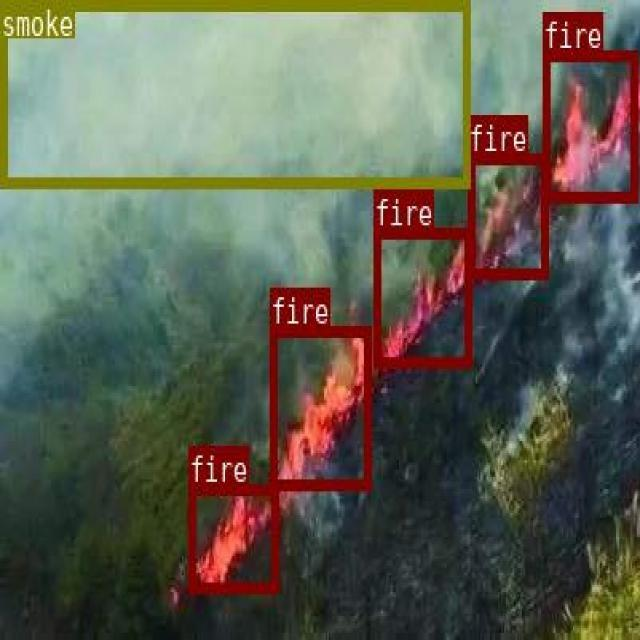fire: (269, 325, 370, 488), (542, 50, 636, 201), (374, 226, 470, 366), (188, 482, 277, 592), (467, 153, 546, 276)
smoke: (0, 0, 468, 185)
